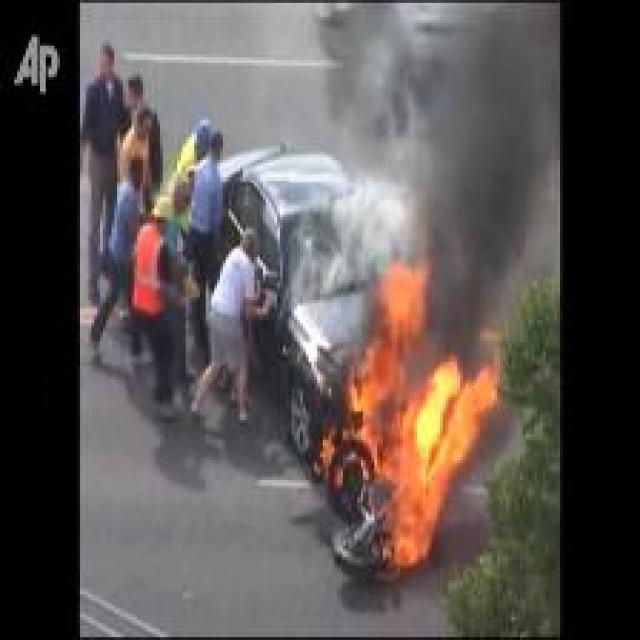Fire: (343, 259, 503, 570)
